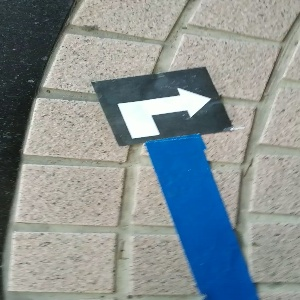right: (91, 66, 233, 145)
